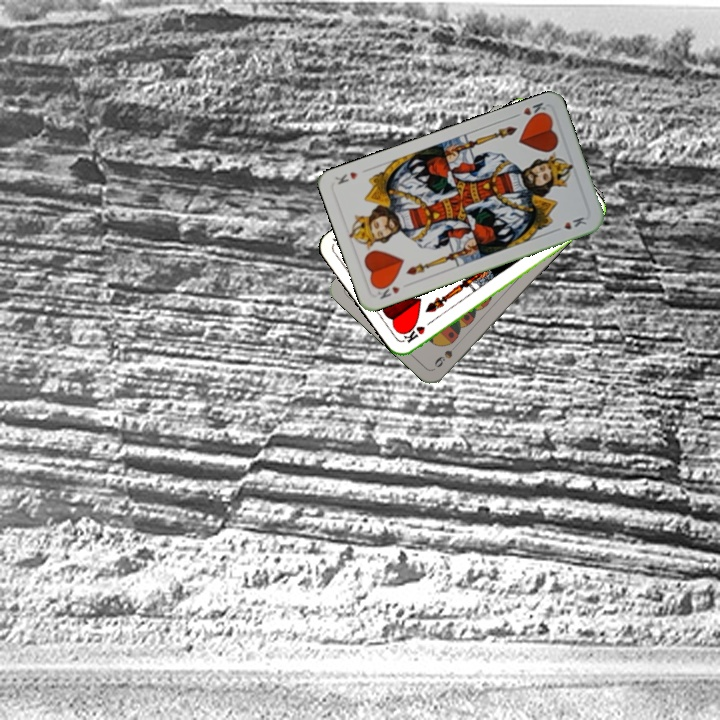HK: (399, 315, 436, 346), (509, 98, 551, 123), (371, 278, 403, 302)
S9: (430, 338, 462, 370)
